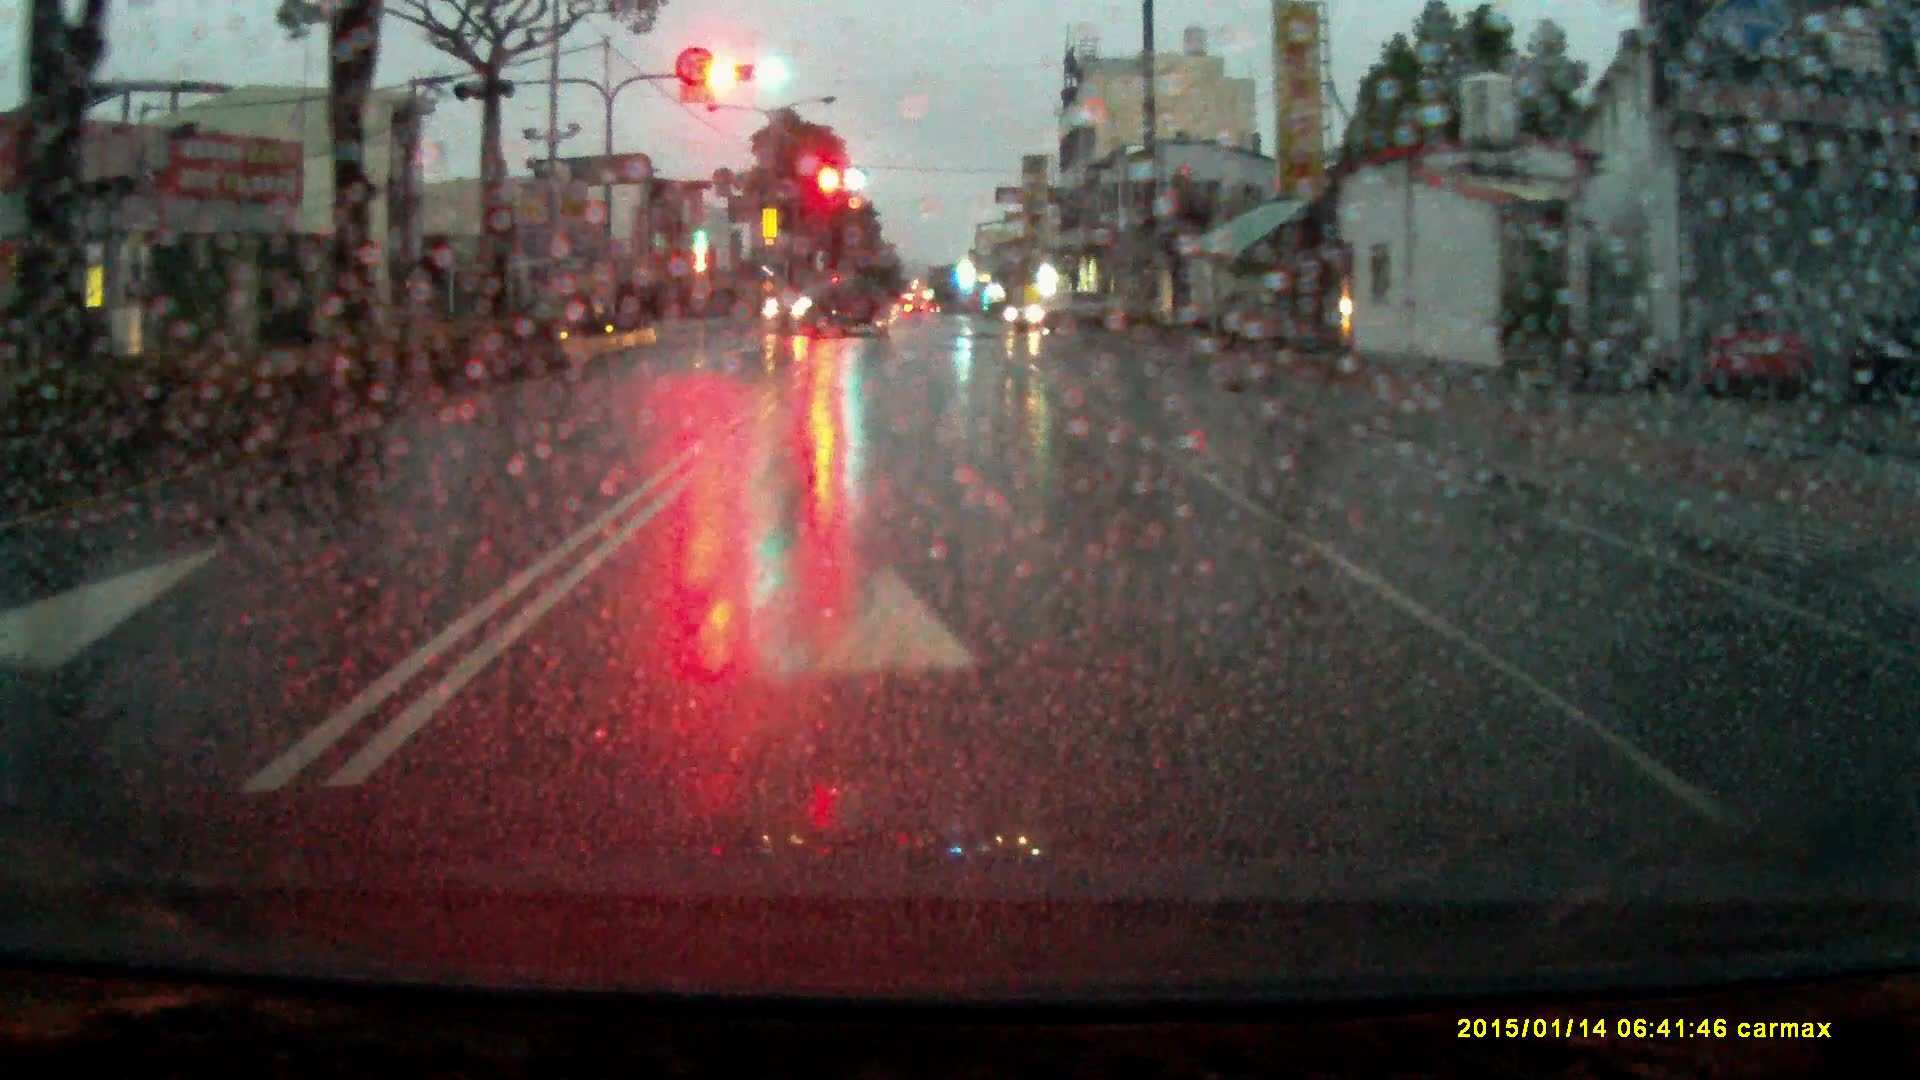vehicle: (760, 276, 901, 342), (1007, 293, 1122, 342)
